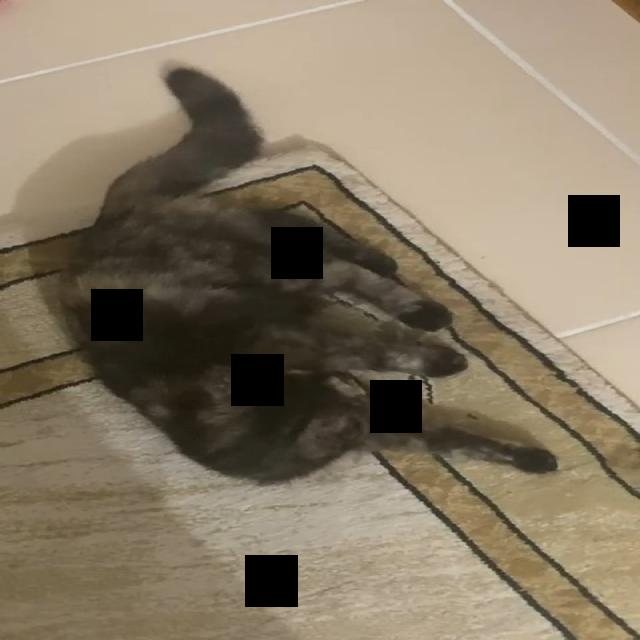authorized: (54, 62, 558, 486)
